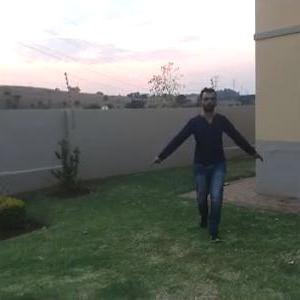land: (155, 91, 252, 215)
